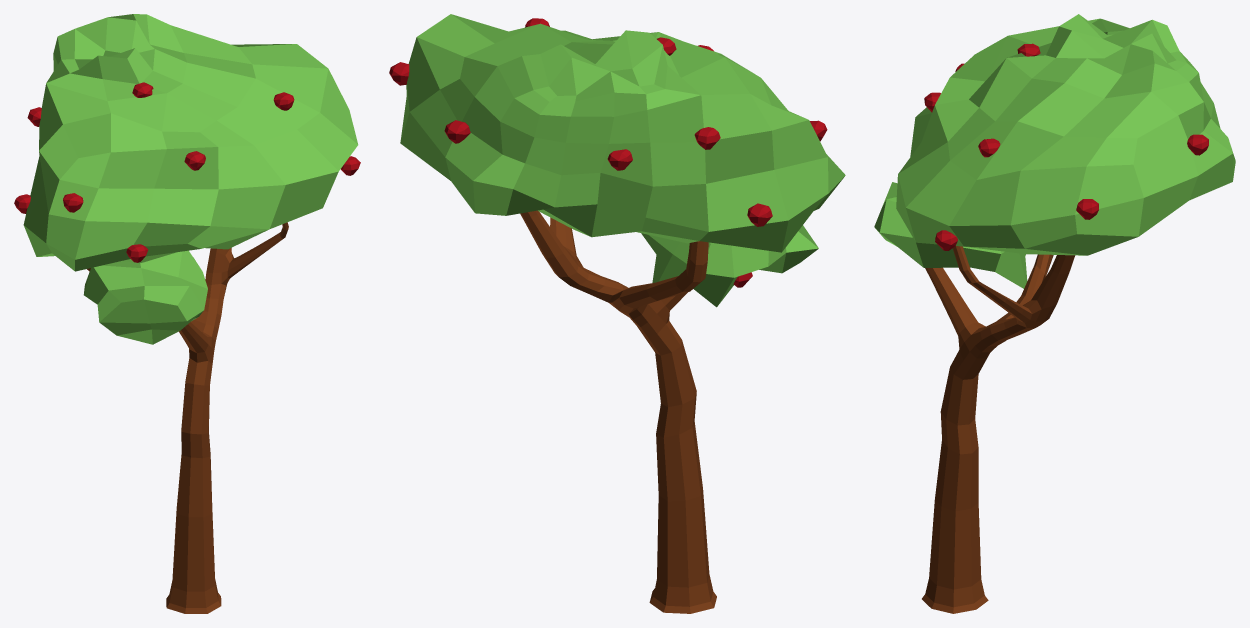
The model's file is tree3.fbx.
The picture shows the model from 3 angles, left to right: view 1: azimuth 30°, elevation 25°; view 2: azimuth 150°, elevation 25°; view 3: azimuth 270°, elevation 25°; orthographic projection. The views are drawn at different scales.
Visible parts, largest first — view 1: Apple_4_Cube_2; view 2: Apple_4_Cube_2; view 3: Apple_4_Cube_2.
Boxes of the visible parts, left/top/right/bottom form: Apple_4_Cube_2: left=14, top=14, right=360, bottom=613; Apple_4_Cube_2: left=389, top=14, right=845, bottom=613; Apple_4_Cube_2: left=874, top=14, right=1235, bottom=613.
Size of the model in its own units: 228 by 355 by 205.
